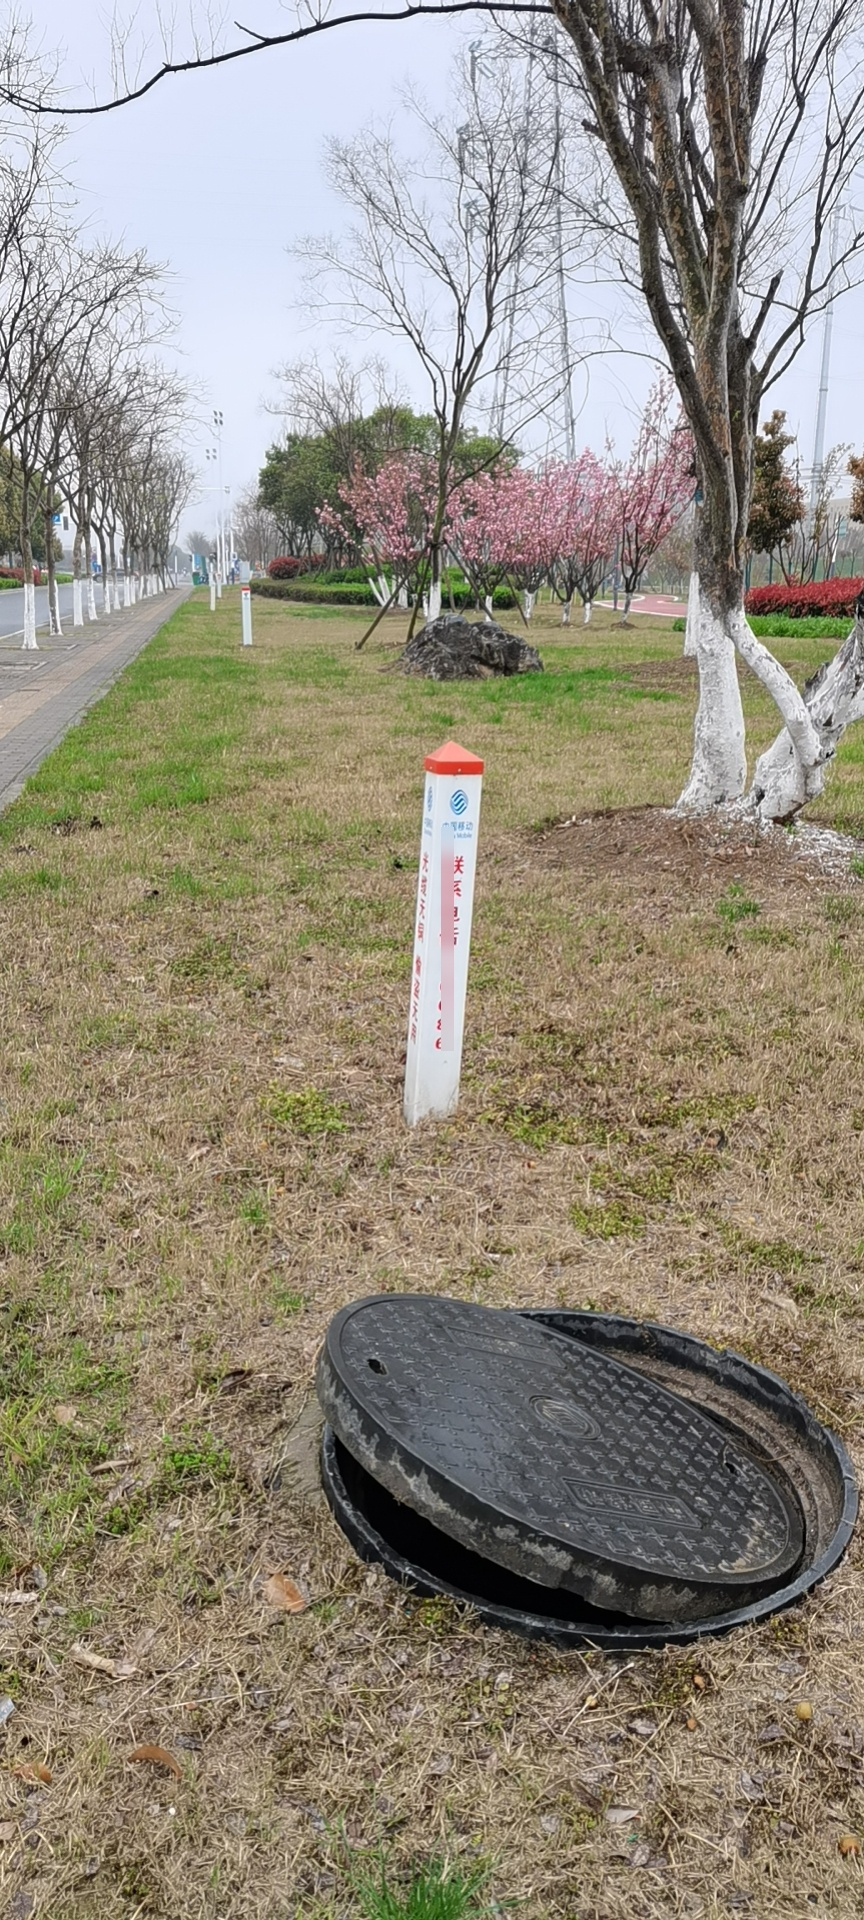uncovered: (310, 1289, 860, 1651)
